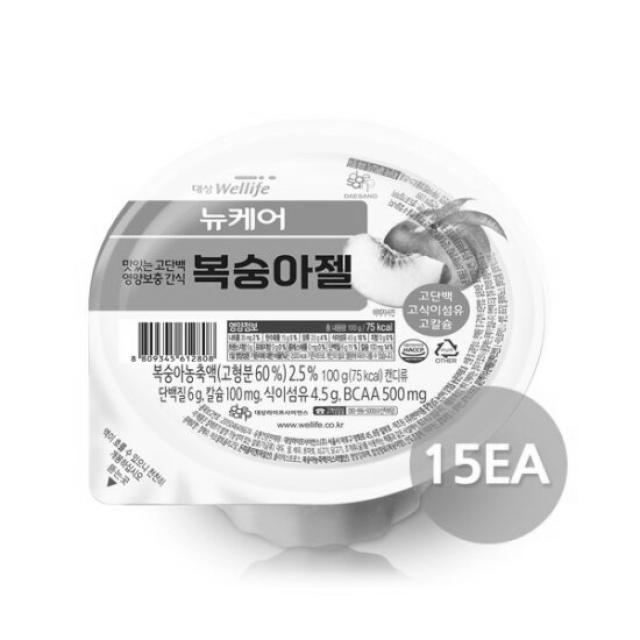Nutrition Label: (220, 314, 406, 372)
